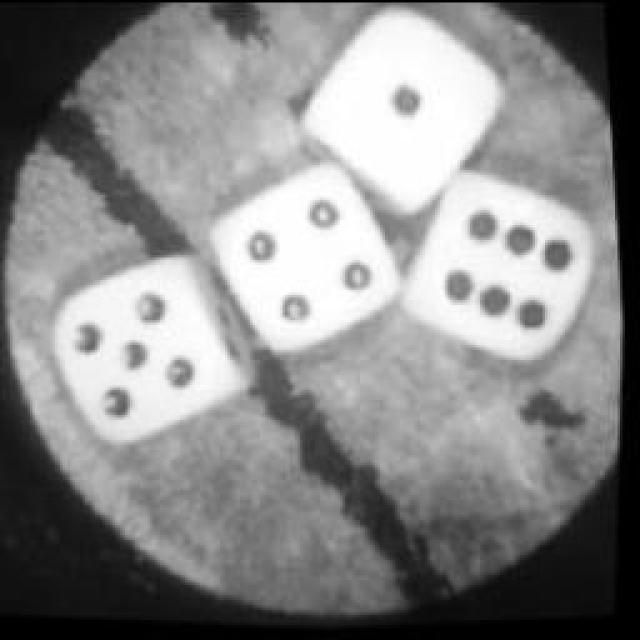dice_1: (299, 0, 519, 225)
dice_4: (209, 160, 419, 365)
dice_5: (45, 250, 250, 445)
dice_6: (395, 176, 605, 374)
